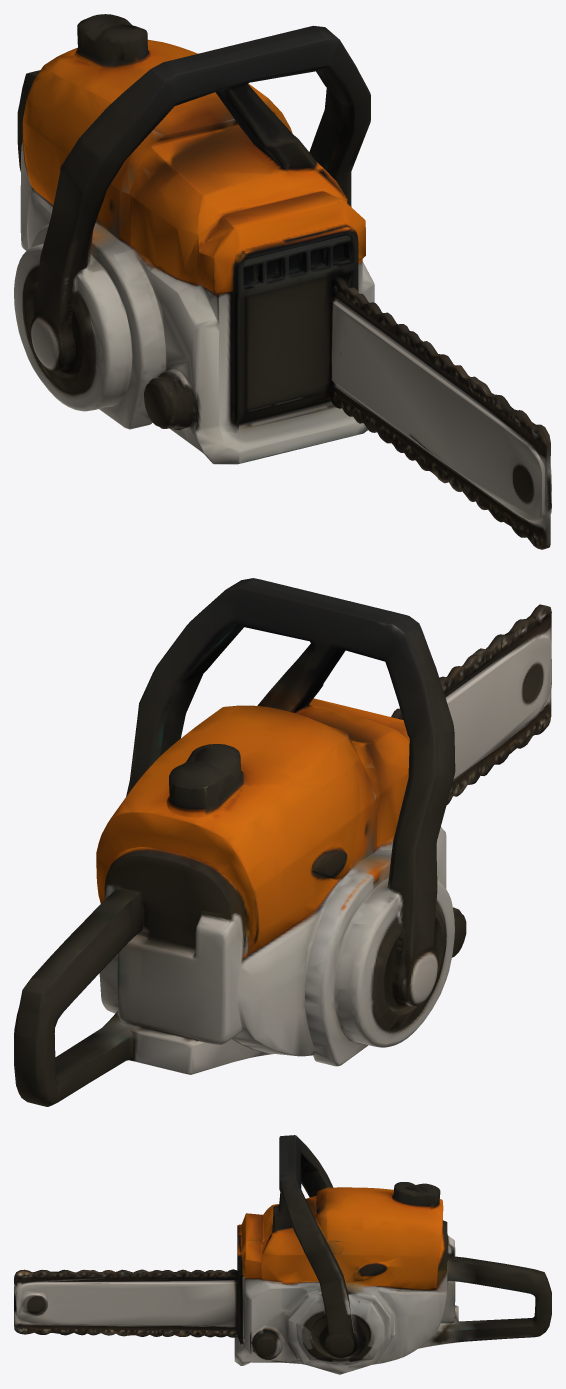
The model's file is chainsaw.fbx.
3 views of the same model, one above another, from view 1: azimuth 30°, elevation 25°; view 2: azimuth 150°, elevation 25°; view 3: azimuth 270°, elevation 25° (orthographic). The views are drawn at different scales.
Parts seen in each view (by area): view 1: node_0.003; view 2: node_0.003; view 3: node_0.003.
Boxes of the visible parts, box(x1,y1,x2,y2) form: node_0.003: box(14, 14, 551, 549); node_0.003: box(14, 578, 551, 1106); node_0.003: box(14, 1135, 551, 1374).
Size of the model in its own units: 0.2532 by 0.3001 by 0.7668.
1 material, 1 textured.
